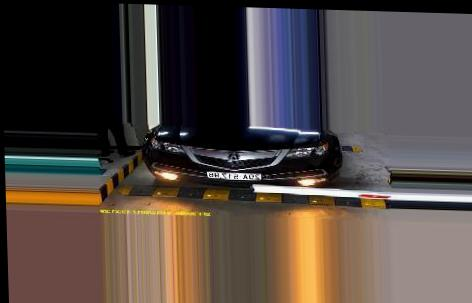License_Plate: (208, 169, 261, 184)
